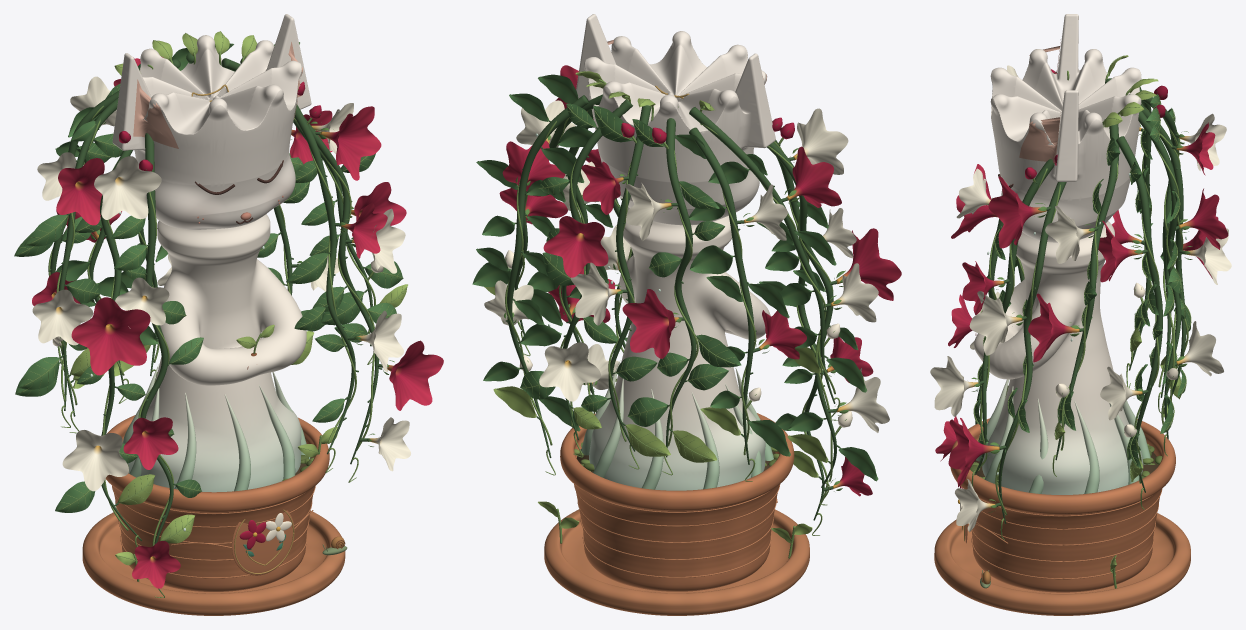
Rendered from mandevilla-living-presence.glb.
3 renders of one model, left to right at view 1: azimuth 30°, elevation 25°; view 2: azimuth 150°, elevation 25°; view 3: azimuth 270°, elevation 25°, orthographic. The views are drawn at different scales.
Visible parts, largest first — view 1: Anatomy | continuous queen torso and nurturing meditating pa, Anatomy | integral scalloped queen skull and cat ears, Flowers | red five-lobed trumpet flowers, Flowers | white five-lobed trumpet flowers, Earthwork | warm terracotta planter with open interior, Left garden | cupped living leaves, Earthwork | broad hand-thrown saucer, Right garden | cupped living leaves, Left garden | flowing crown-born stems, Right garden | flowing crown-born stems, Emergence | soft root flutes becoming ivory clay, Back garden | cupped living leaves (+10 smaller); view 2: Anatomy | integral scalloped queen skull and cat ears, Earthwork | warm terracotta planter with open interior, Anatomy | continuous queen torso and nurturing meditating pa, Flowers | red five-lobed trumpet flowers, Flowers | white five-lobed trumpet flowers, Left garden | cupped living leaves, Back garden | cupped living leaves, Right garden | cupped living leaves, Earthwork | broad hand-thrown saucer, Left garden | flowing crown-born stems, Back garden | flowing crown-born stems, Right garden | flowing crown-born stems (+11 smaller); view 3: Anatomy | continuous queen torso and nurturing meditating pa, Anatomy | integral scalloped queen skull and cat ears, Earthwork | warm terracotta planter with open interior, Flowers | red five-lobed trumpet flowers, Flowers | white five-lobed trumpet flowers, Earthwork | broad hand-thrown saucer, Right garden | flowing crown-born stems, Back garden | flowing crown-born stems, Right garden | cupped living leaves, Emergence | soft root flutes becoming ivory clay, Back garden | cupped living leaves, Right garden | winding companion tendrils (+12 smaller).
Part boxes in pixels (left/top/right/bottom): Anatomy | continuous queen torso and nurturing meditating pa: left=127, top=214, right=306, bottom=492; Anatomy | integral scalloped queen skull and cat ears: left=112, top=14, right=311, bottom=229; Flowers | red five-lobed trumpet flowers: left=32, top=58, right=443, bottom=588; Flowers | white five-lobed trumpet flowers: left=32, top=76, right=410, bottom=491; Earthwork | warm terracotta planter with open interior: left=105, top=415, right=329, bottom=591; Left garden | cupped living leaves: left=14, top=83, right=203, bottom=543; Earthwork | broad hand-thrown saucer: left=82, top=510, right=345, bottom=615; Right garden | cupped living leaves: left=257, top=42, right=407, bottom=422; Left garden | flowing crown-born stems: left=50, top=90, right=173, bottom=544; Right garden | flowing crown-born stems: left=221, top=58, right=379, bottom=464; Emergence | soft root flutes becoming ivory clay: left=122, top=364, right=310, bottom=491; Back garden | cupped living leaves: left=55, top=43, right=233, bottom=388; Anatomy | integral scalloped queen skull and cat ears: left=576, top=14, right=775, bottom=225; Earthwork | warm terracotta planter with open interior: left=560, top=413, right=794, bottom=591; Anatomy | continuous queen torso and nurturing meditating pa: left=589, top=207, right=770, bottom=490; Flowers | red five-lobed trumpet flowers: left=499, top=65, right=901, bottom=496; Flowers | white five-lobed trumpet flowers: left=484, top=100, right=889, bottom=432; Left garden | cupped living leaves: left=675, top=134, right=878, bottom=481; Back garden | cupped living leaves: left=520, top=103, right=741, bottom=462; Right garden | cupped living leaves: left=472, top=74, right=627, bottom=431; Earthwork | broad hand-thrown saucer: left=544, top=509, right=809, bottom=615; Left garden | flowing crown-born stems: left=689, top=107, right=836, bottom=520; Back garden | flowing crown-born stems: left=563, top=99, right=696, bottom=457; Right garden | flowing crown-born stems: left=507, top=94, right=633, bottom=457; Anatomy | continuous queen torso and nurturing meditating pa: left=974, top=221, right=1143, bottom=494; Anatomy | integral scalloped queen skull and cat ears: left=990, top=14, right=1141, bottom=242; Earthwork | warm terracotta planter with open interior: left=950, top=418, right=1175, bottom=592; Flowers | red five-lobed trumpet flowers: left=935, top=122, right=1228, bottom=487; Flowers | white five-lobed trumpet flowers: left=930, top=65, right=1231, bottom=532; Earthwork | broad hand-thrown saucer: left=934, top=513, right=1190, bottom=615; Right garden | flowing crown-born stems: left=974, top=124, right=1162, bottom=523; Back garden | flowing crown-born stems: left=1129, top=89, right=1186, bottom=439; Right garden | cupped living leaves: left=978, top=137, right=1162, bottom=481; Emergence | soft root flutes becoming ivory clay: left=976, top=379, right=1150, bottom=493; Back garden | cupped living leaves: left=1146, top=94, right=1190, bottom=433; Right garden | winding companion tendrils: left=979, top=136, right=1159, bottom=515.
Bounding box in the file's own units: 0.7667 × 1 × 0.5291.
